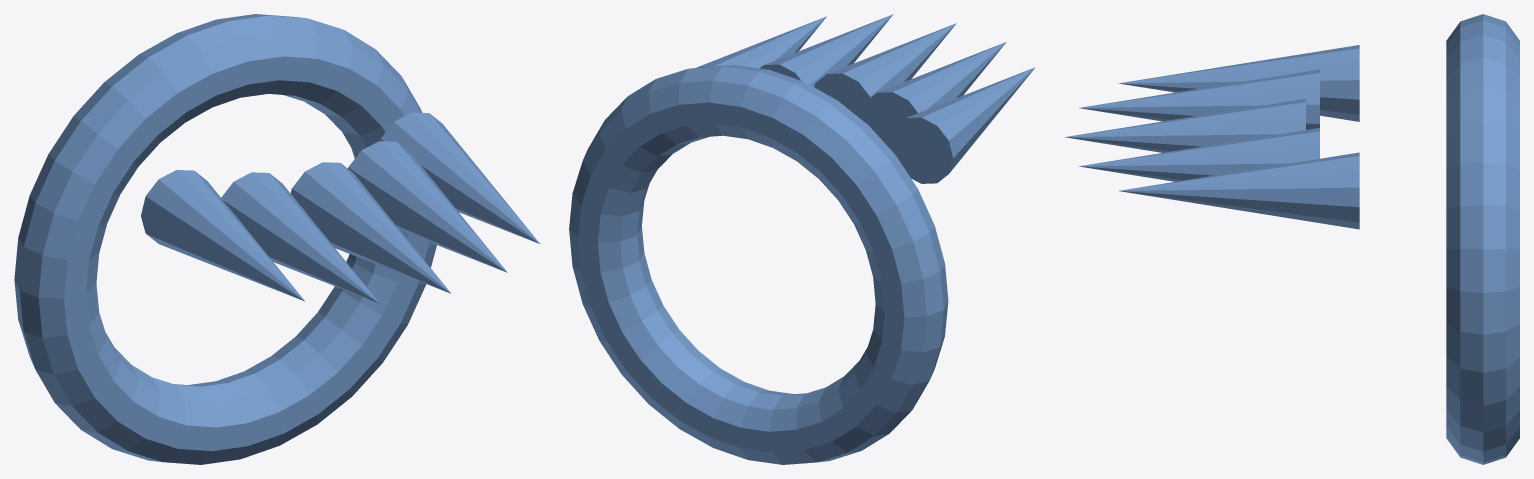
The model's file is nature_157.glb.
3 renders of one model, left to right at view 1: azimuth 30°, elevation 25°; view 2: azimuth 150°, elevation 25°; view 3: azimuth 270°, elevation 25°, orthographic. The views are drawn at different scales.
Visible parts, largest first — view 1: world; view 2: world; view 3: world.
Part boxes in pixels (x1,y1,x2,y2): world: (14,14,539,464); world: (569,14,1035,464); world: (1064,14,1519,464).
Bounding box in the file's own units: 1.4 × 1.4 × 1.41.
